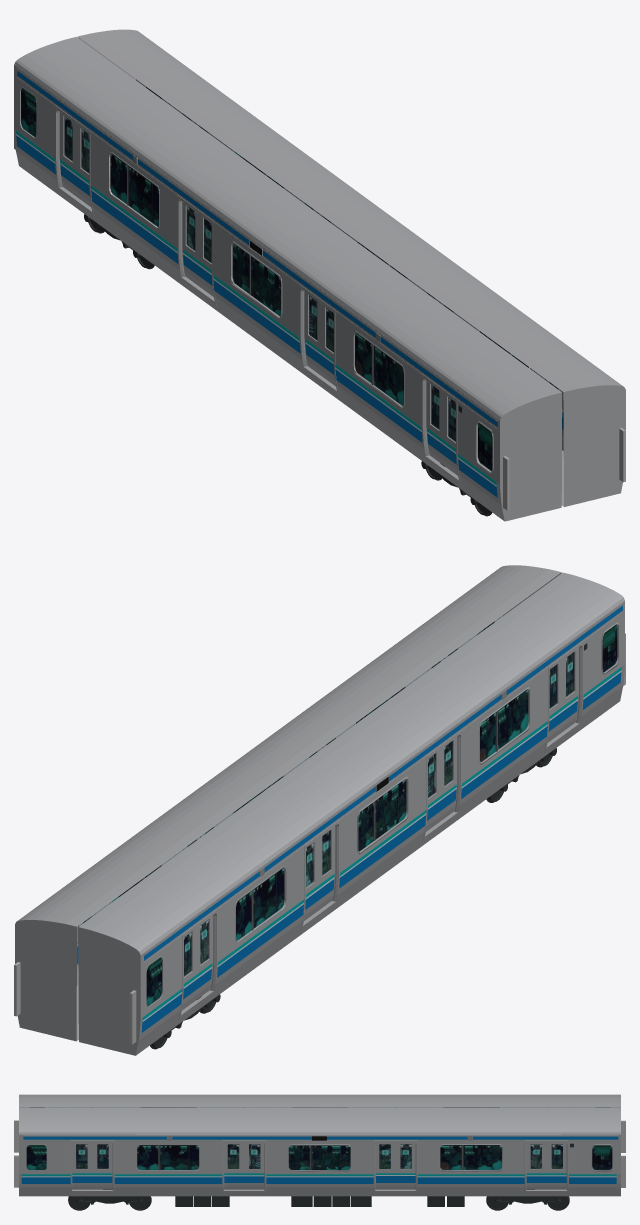
File: rinkai.glb
The picture shows the model from 3 angles, top to bottom: view 1: azimuth 30°, elevation 25°; view 2: azimuth 150°, elevation 25°; view 3: azimuth 270°, elevation 25°; orthographic projection. The views are drawn at different scales.
Visible parts, largest first — view 1: train_bode.001, train_bode, pic.003, pic.002; view 2: train_bode.001, train_bode, pic.003, pic.002; view 3: train_bode, train_bode.001, pic, pic.001, 円柱.007, 円柱, 立方体.064, 立方体.003, pic.003, pic.002, 立方体.072, 立方体.075 (+2 smaller).
Part boxes in pixels (left/top/right/bottom): train_bode.001: left=14, top=37, right=562, bottom=521; train_bode: left=77, top=29, right=625, bottom=506; pic.003: left=21, top=88, right=492, bottom=470; pic.002: left=64, top=116, right=455, bottom=441; train_bode.001: left=78, top=572, right=625, bottom=1055; train_bode: left=14, top=565, right=561, bottom=1041; pic.003: left=146, top=624, right=617, bottom=1006; pic.002: left=184, top=652, right=574, bottom=976; train_bode: left=14, top=1107, right=625, bottom=1196; train_bode.001: left=14, top=1094, right=625, bottom=1152; pic: left=26, top=1145, right=612, bottom=1170; pic.001: left=76, top=1144, right=562, bottom=1169; 円柱.007: left=486, top=1196, right=569, bottom=1210; 円柱: left=68, top=1196, right=151, bottom=1210; 立方体.064: left=75, top=1196, right=144, bottom=1204; 立方体.003: left=493, top=1196, right=562, bottom=1204; pic.003: left=24, top=1107, right=614, bottom=1107; pic.002: left=19, top=1107, right=620, bottom=1107; 立方体.072: left=350, top=1196, right=371, bottom=1206; 立方体.075: left=291, top=1196, right=312, bottom=1206.
Size of the model in its own units: 2.08 by 2.45 by 13.83.
Materials: 45 (4 with a texture image).
